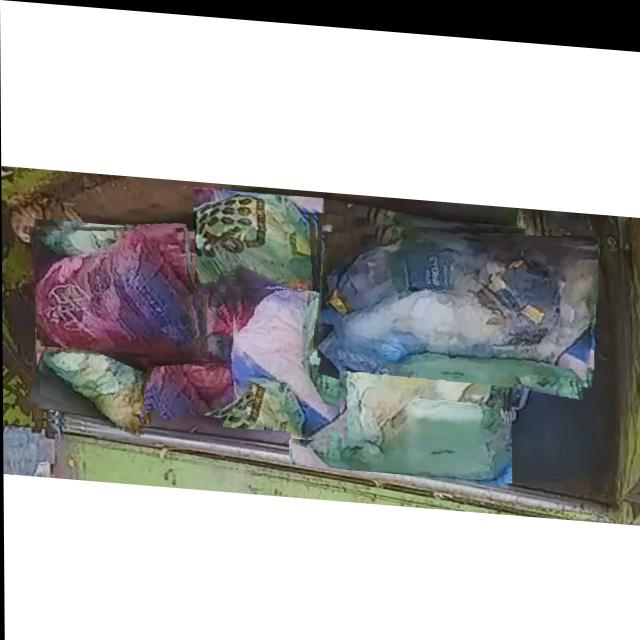general_trashbag: (292, 337, 508, 471), (194, 188, 319, 323), (40, 332, 143, 433)
other_trashbag: (317, 216, 597, 356), (37, 224, 199, 354), (216, 285, 338, 434), (148, 291, 232, 408)
